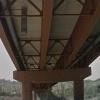Bridge: (8, 10, 94, 93)
